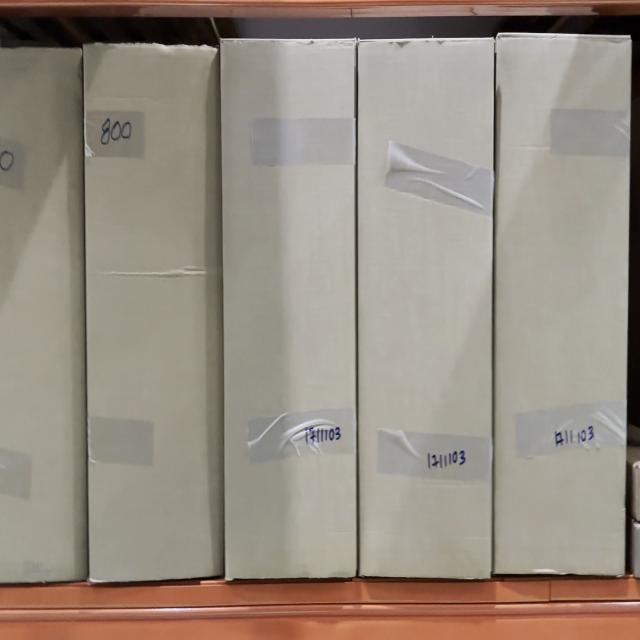box: (359, 39, 491, 577), (89, 46, 220, 576), (226, 41, 355, 578), (497, 38, 624, 574)
